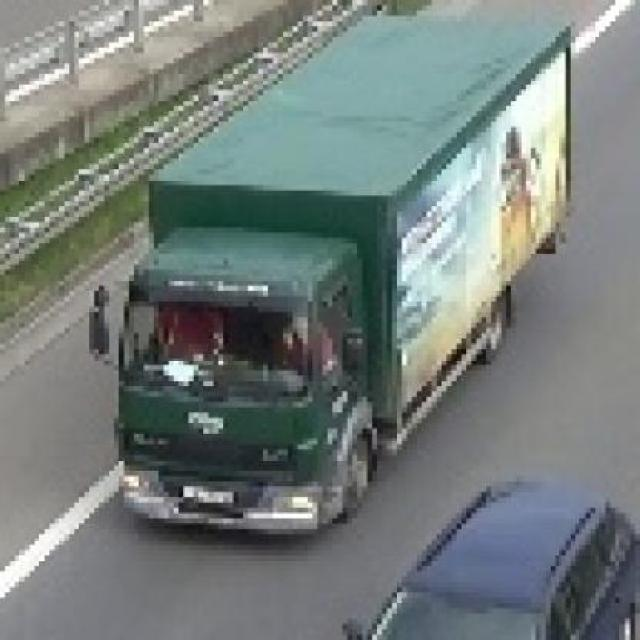truck: (95, 1, 576, 535)
